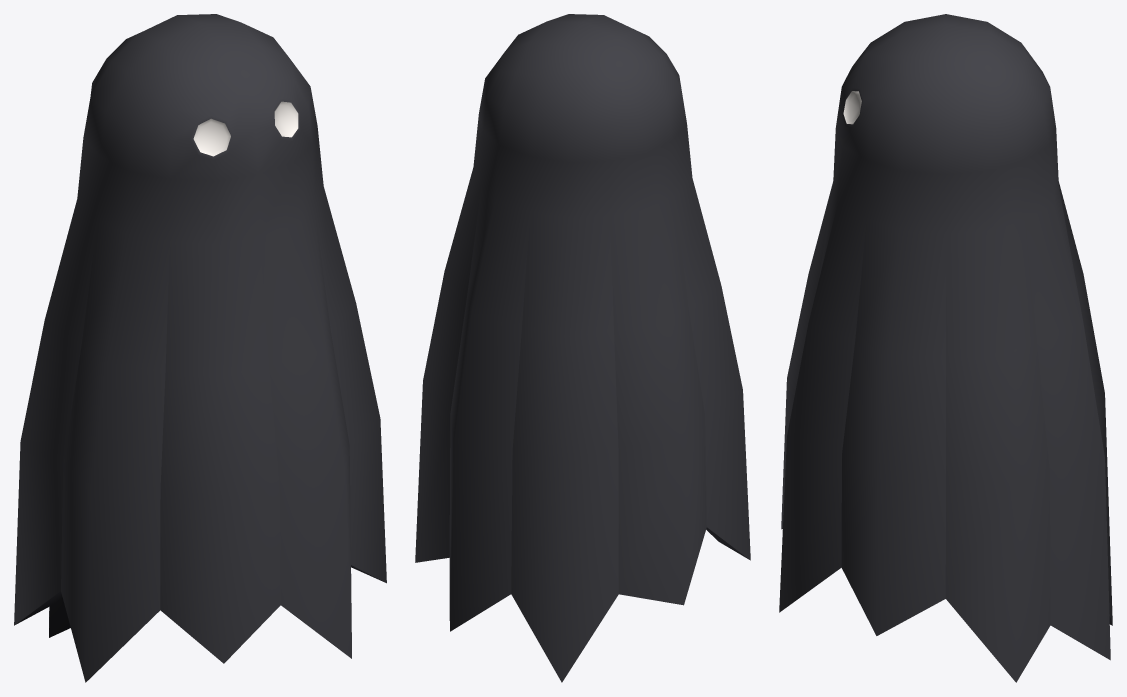
File: Ghost_2.fbx
The picture shows the model from 3 angles, left to right: view 1: azimuth 30°, elevation 25°; view 2: azimuth 150°, elevation 25°; view 3: azimuth 270°, elevation 25°; orthographic projection. The views are drawn at different scales.
Visible parts, largest first — view 1: Ghost_2, Eyes; view 2: Ghost_2; view 3: Ghost_2.
Part boxes in pixels (x1,y1,x2,y2): Ghost_2: (14, 14, 386, 682); Eyes: (193, 101, 298, 156); Ghost_2: (415, 14, 750, 682); Ghost_2: (779, 14, 1112, 682).
Bounding box in the file's own units: 17.89 × 37.33 × 17.89.
